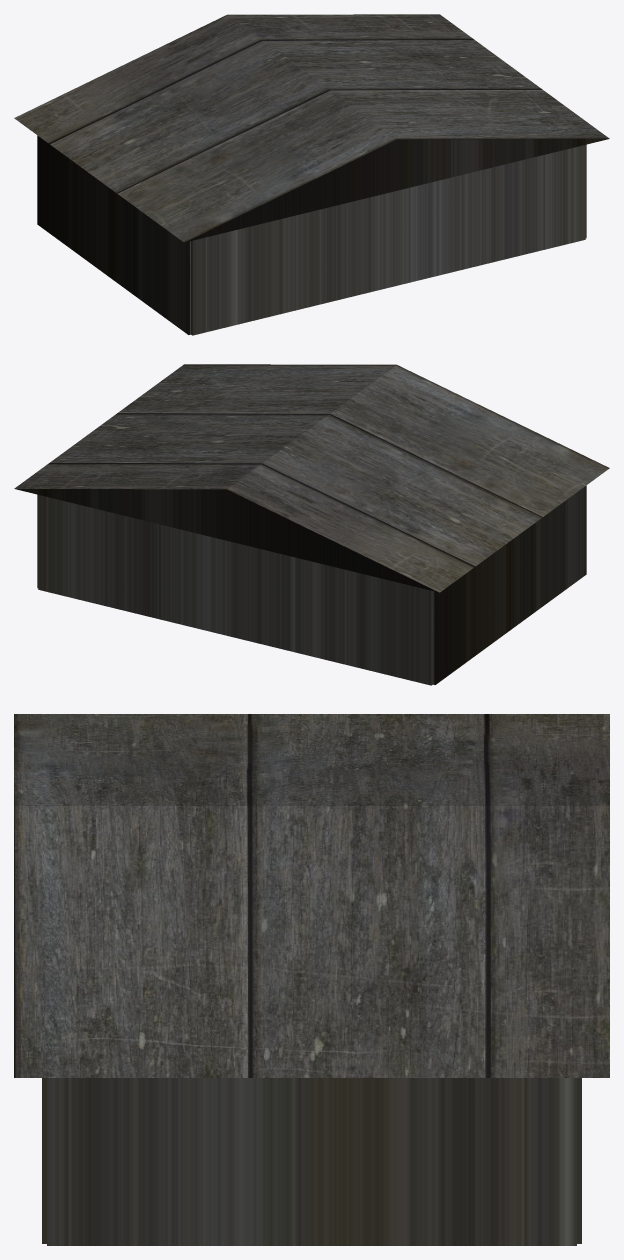
Rendered from mess_hall.glb.
The picture shows the model from 3 angles, top to bottom: view 1: azimuth 30°, elevation 25°; view 2: azimuth 150°, elevation 25°; view 3: azimuth 270°, elevation 25°; orthographic projection. The views are drawn at different scales.
Visible parts, largest first — view 1: MessHall; view 2: MessHall; view 3: MessHall.
Boxes of the visible parts, x1=… form: MessHall: x1=14, y1=14, x2=609, y2=335; MessHall: x1=14, y1=364, x2=609, y2=685; MessHall: x1=14, y1=714, x2=609, y2=1245.
Size of the model in its own units: 13 by 4.5 by 9.
Materials: 1 (1 with a texture image).
